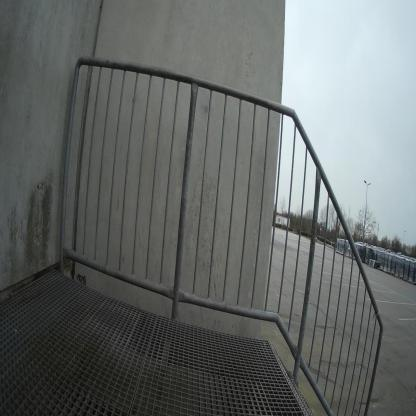pallet: (408, 278, 414, 285), (398, 275, 403, 281), (403, 277, 408, 283), (395, 274, 400, 278), (391, 272, 395, 277)
